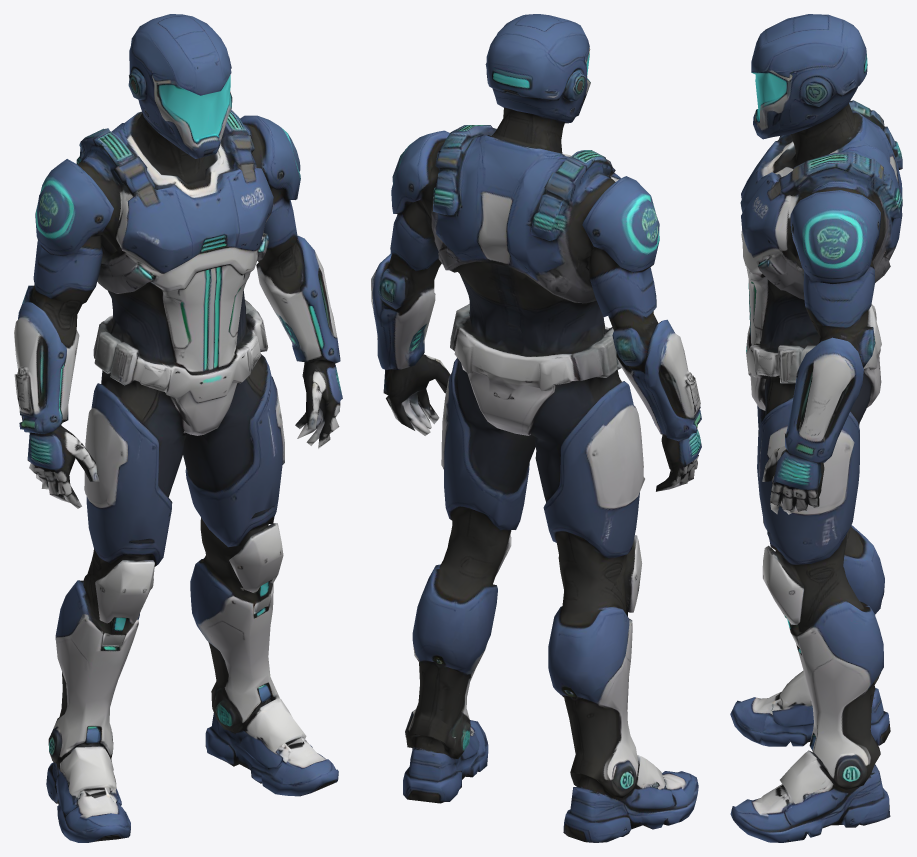
The model's file is Player3D.glb.
3 renders of one model, left to right at view 1: azimuth 30°, elevation 25°; view 2: azimuth 150°, elevation 25°; view 3: azimuth 270°, elevation 25°, orthographic. The views are drawn at different scales.
Parts seen in each view (by area): view 1: tripo_node_37cba1b4-8981-4466-970c-23d317de2c5b; view 2: tripo_node_37cba1b4-8981-4466-970c-23d317de2c5b; view 3: tripo_node_37cba1b4-8981-4466-970c-23d317de2c5b.
Part boxes in pixels (x1,y1,x2,y2): tripo_node_37cba1b4-8981-4466-970c-23d317de2c5b: (14, 14, 342, 842); tripo_node_37cba1b4-8981-4466-970c-23d317de2c5b: (371, 14, 701, 842); tripo_node_37cba1b4-8981-4466-970c-23d317de2c5b: (730, 14, 902, 842).
Bounding box in the file's own units: 0.4251 × 1 × 0.2051.
1 material, 1 textured.
